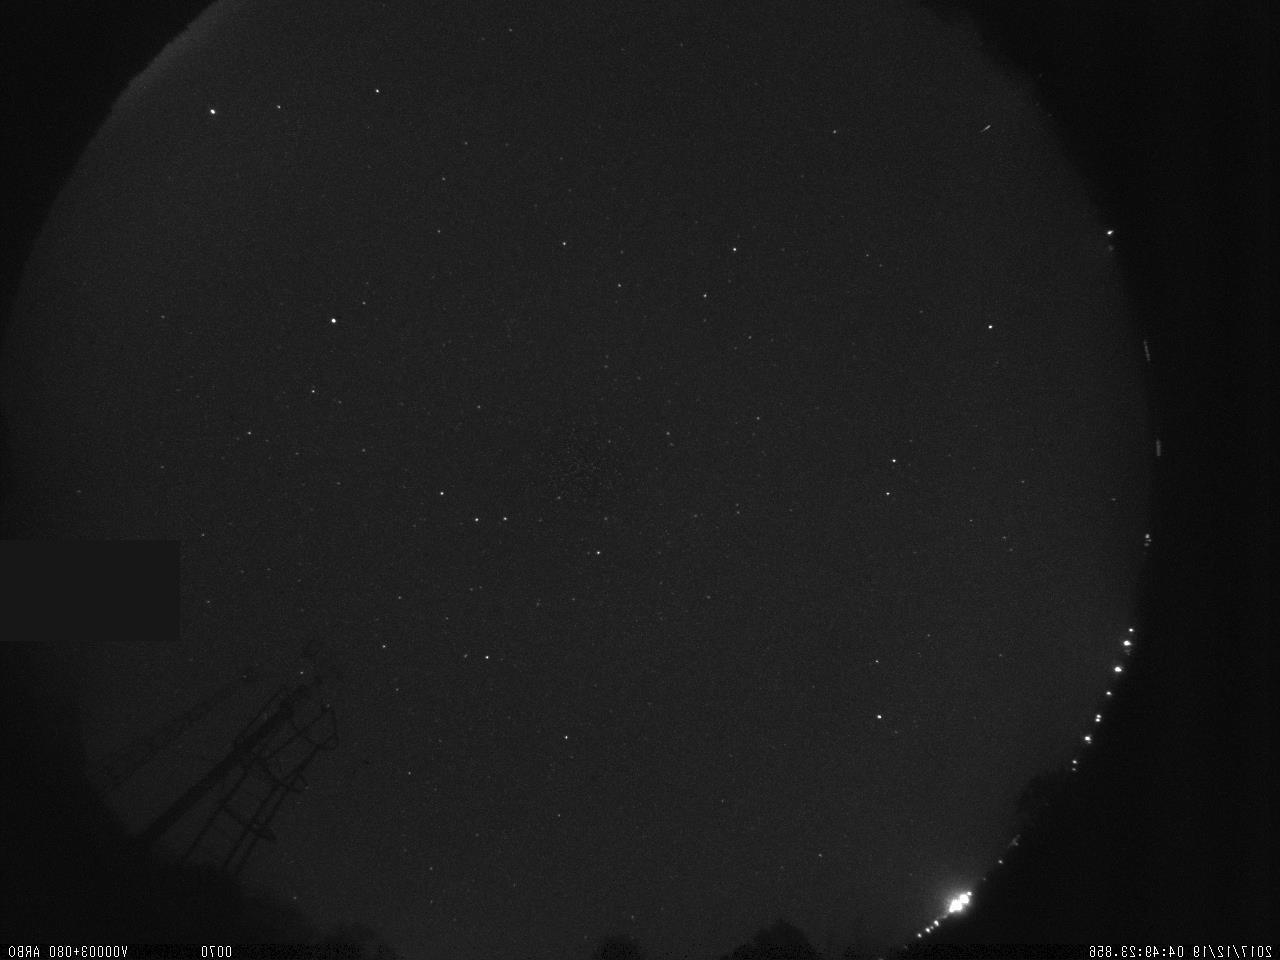meteor: (943, 114, 1006, 152)
